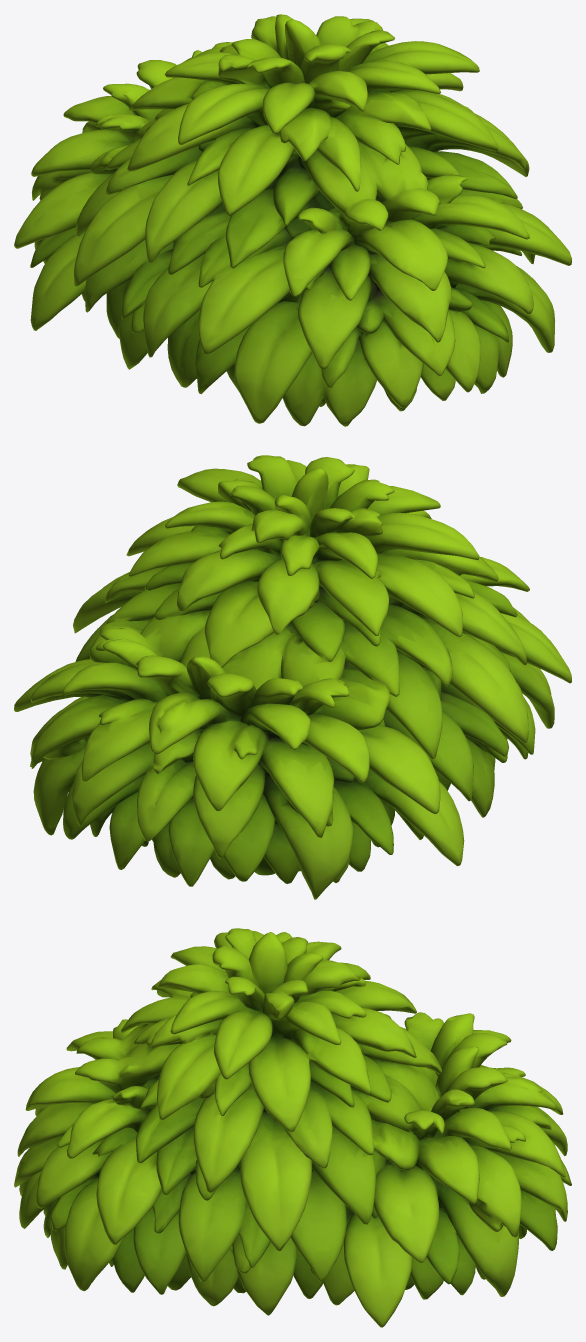
File: hedge_bush.glb
3 views of the same model, one above another, from view 1: azimuth 30°, elevation 25°; view 2: azimuth 150°, elevation 25°; view 3: azimuth 270°, elevation 25° (orthographic). The views are drawn at different scales.
Parts seen in each view (by area): view 1: tripo_node_04af0f5d-fb7b-4c23-882b-d443a59440e5; view 2: tripo_node_04af0f5d-fb7b-4c23-882b-d443a59440e5; view 3: tripo_node_04af0f5d-fb7b-4c23-882b-d443a59440e5.
Boxes of the visible parts, x1=… form: tripo_node_04af0f5d-fb7b-4c23-882b-d443a59440e5: x1=14, y1=14, x2=571, y2=426; tripo_node_04af0f5d-fb7b-4c23-882b-d443a59440e5: x1=14, y1=455, x2=571, y2=899; tripo_node_04af0f5d-fb7b-4c23-882b-d443a59440e5: x1=14, y1=928, x2=571, y2=1327.
Size of the model in its own units: 0.8149 by 0.55 by 0.9166.
Materials: 1 (1 with a texture image).
